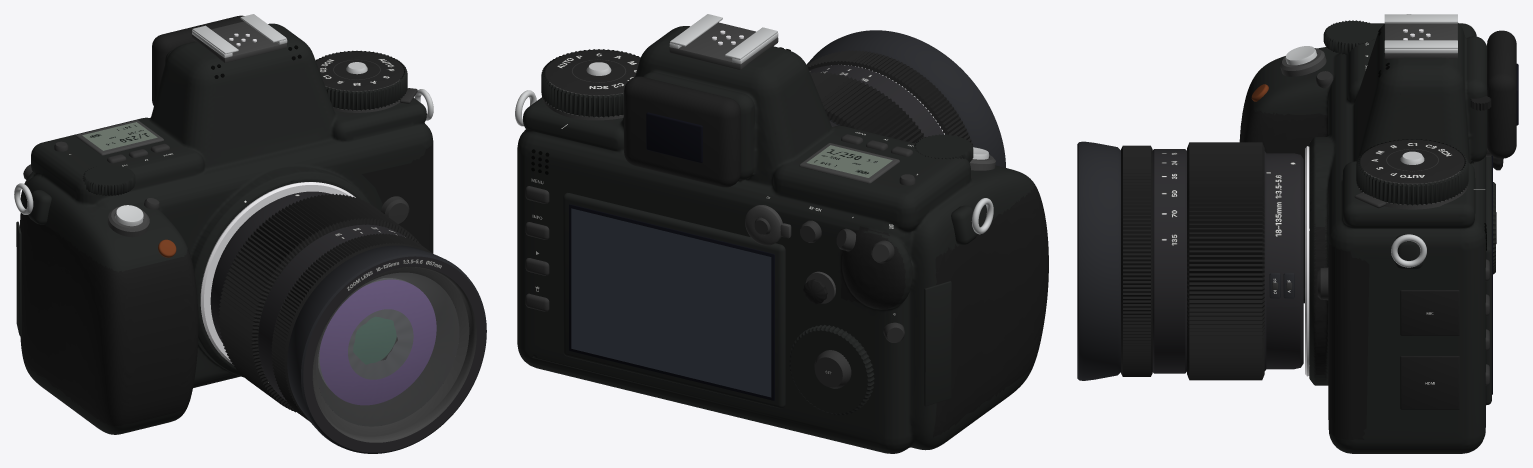
Rendered from dslr_camera.web.glb.
The picture shows the model from 3 angles, left to right: view 1: azimuth 30°, elevation 25°; view 2: azimuth 150°, elevation 25°; view 3: azimuth 270°, elevation 25°; orthographic projection. The views are drawn at different scales.
Parts seen in each view (by area): view 1: Body, Lens_Glass, Lens_ZoomRing, Lens_Element2, Lens_Interior, Lens_NameRing, Lens_Thread, Lens_Front, Lens_FocusRing, Lens_Mid, Mount_Ring, ModeDial_Top (+16 smaller); view 2: Body, Screen, Eyecup, Screen_Bezel, Lens_Front, QuickDial, Lens_ZoomRing, Lens_FocusRing, CardDoor, ModeDial_Top, Screen_Glass_Edge, Viewfinder_Glass (+11 smaller); view 3: Body, Lens_ZoomRing, Lens_Front, Lens_Base, Lens_Mid, Lens_FocusRing, Eyecup, ModeDial_Top, PortCover_HDMI, PortCover_MIC, ModeDial, HotShoe_Base (+10 smaller).
Boxes of the visible parts, x1,y1,x2,y2 form: Body: (20,23,433,434); Lens_Glass: (316,273,458,426); Lens_ZoomRing: (218,194,420,413); Lens_Element2: (319,279,436,405); Lens_Interior: (316,272,459,426); Lens_NameRing: (303,256,485,452); Lens_Thread: (312,266,476,442); Lens_Front: (287,245,486,453); Lens_FocusRing: (271,233,432,421); Lens_Mid: (258,224,405,411); Mount_Ring: (200,182,355,364); ModeDial_Top: (316,51,403,90); Body: (517,26,1048,453); Screen: (571,208,771,397); Eyecup: (624,76,740,187); Screen_Bezel: (563,192,785,408); Lens_Front: (806,30,1005,167); QuickDial: (789,325,874,415); Lens_ZoomRing: (810,72,925,143); Lens_FocusRing: (806,50,973,147); CardDoor: (924,281,951,406); ModeDial_Top: (545,50,640,95); Screen_Glass_Edge: (569,204,774,400); Viewfinder_Glass: (646,112,702,162); Body: (1239,23,1487,453); Lens_ZoomRing: (1187,142,1264,380); Lens_Front: (1077,141,1120,380); Lens_Base: (1264,151,1303,370); Lens_Mid: (1152,149,1186,373); Lens_FocusRing: (1121,145,1152,376); Eyecup: (1487,30,1516,158); ModeDial_Top: (1360,139,1464,183); PortCover_HDMI: (1400,356,1459,409); PortCover_MIC: (1400,290,1459,335); ModeDial: (1356,139,1468,205); HotShoe_Base: (1384,23,1457,58).
Bounding box in the file's own units: 1.48 × 1.09 × 1.26.
Materials: 14 (14 with a texture image).
